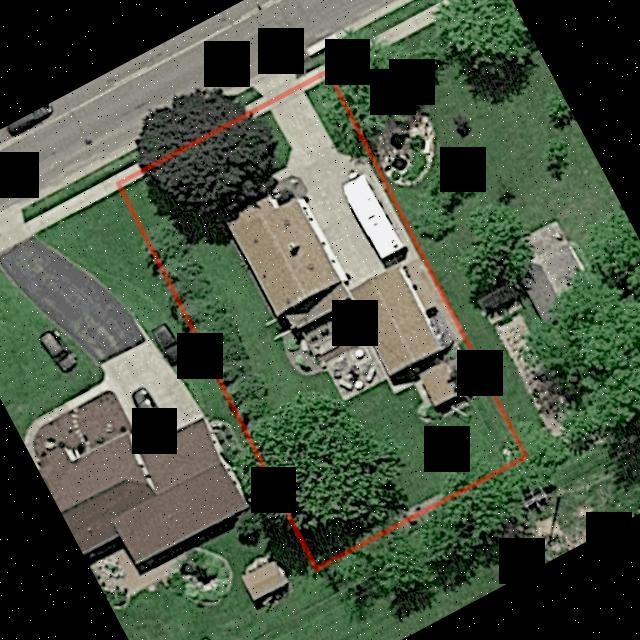Driveway: (266, 85, 459, 344)
Extra Driveway: (248, 57, 296, 99)
Extra Lawn: (104, 146, 137, 176), (291, 49, 324, 78), (106, 148, 137, 174), (234, 86, 260, 105)
Extra Sidewalk: (112, 97, 265, 180), (101, 80, 251, 163), (287, 42, 317, 64), (296, 63, 325, 83)
House: (221, 192, 347, 329)
Other: (281, 301, 385, 399), (349, 265, 438, 373), (418, 359, 462, 405)
Sidewalk: (272, 166, 291, 180)
